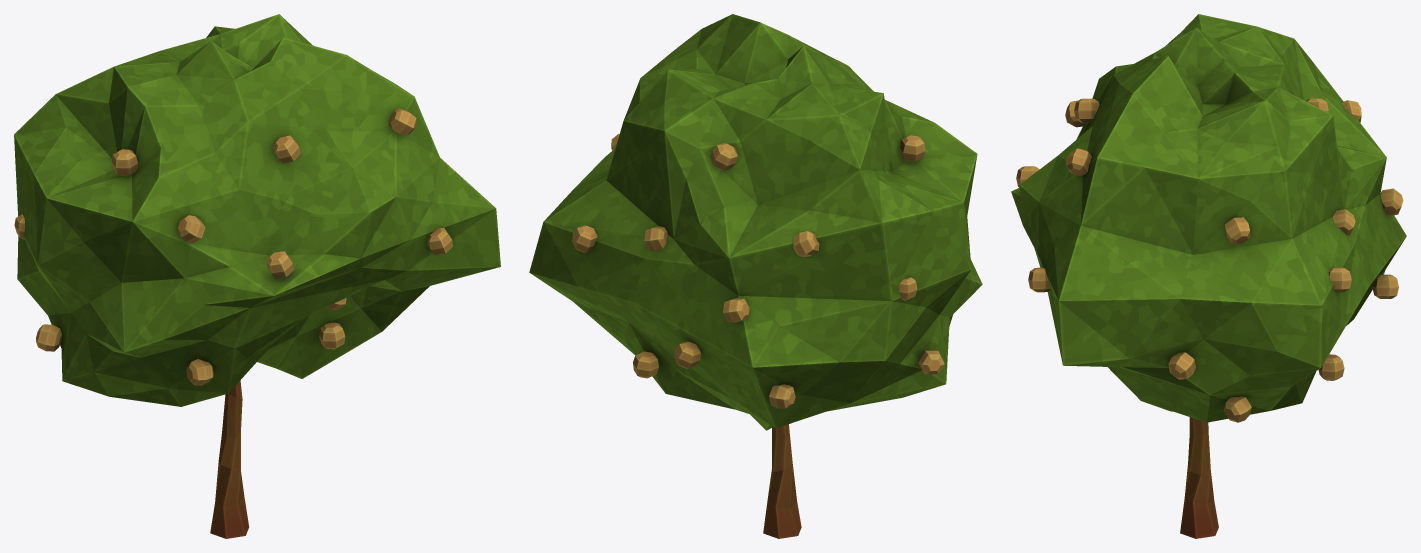
File: OrangeTree.gltf
3 renders of one model, left to right at view 1: azimuth 30°, elevation 25°; view 2: azimuth 150°, elevation 25°; view 3: azimuth 270°, elevation 25°, orthographic.
Parts seen in each view (by area): view 1: node-0; view 2: node-0; view 3: node-0.
Part boxes in pixels (bbox=[...]): node-0: bbox=[14, 14, 500, 538]; node-0: bbox=[529, 14, 982, 538]; node-0: bbox=[1011, 14, 1406, 538].
Size of the model in its own units: 10.67 by 12.8 by 9.31.
1 material, 1 textured.
